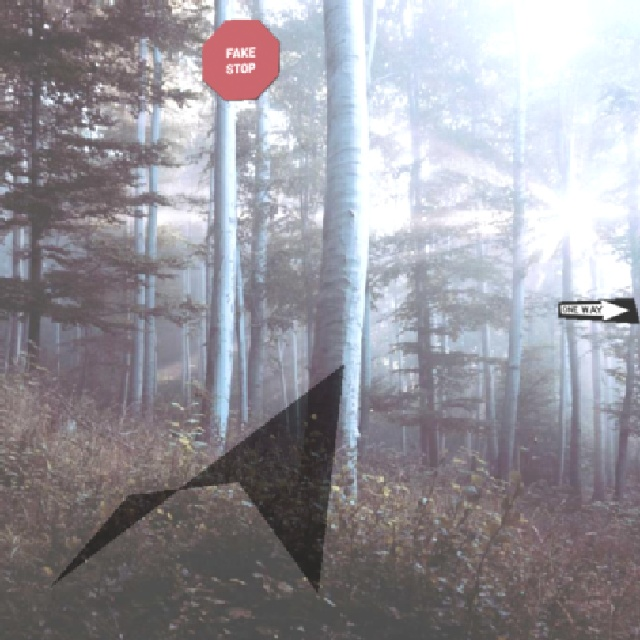FAKE_STOP: (200, 17, 279, 100)
ONE_WAY_ right: (556, 296, 639, 323)
